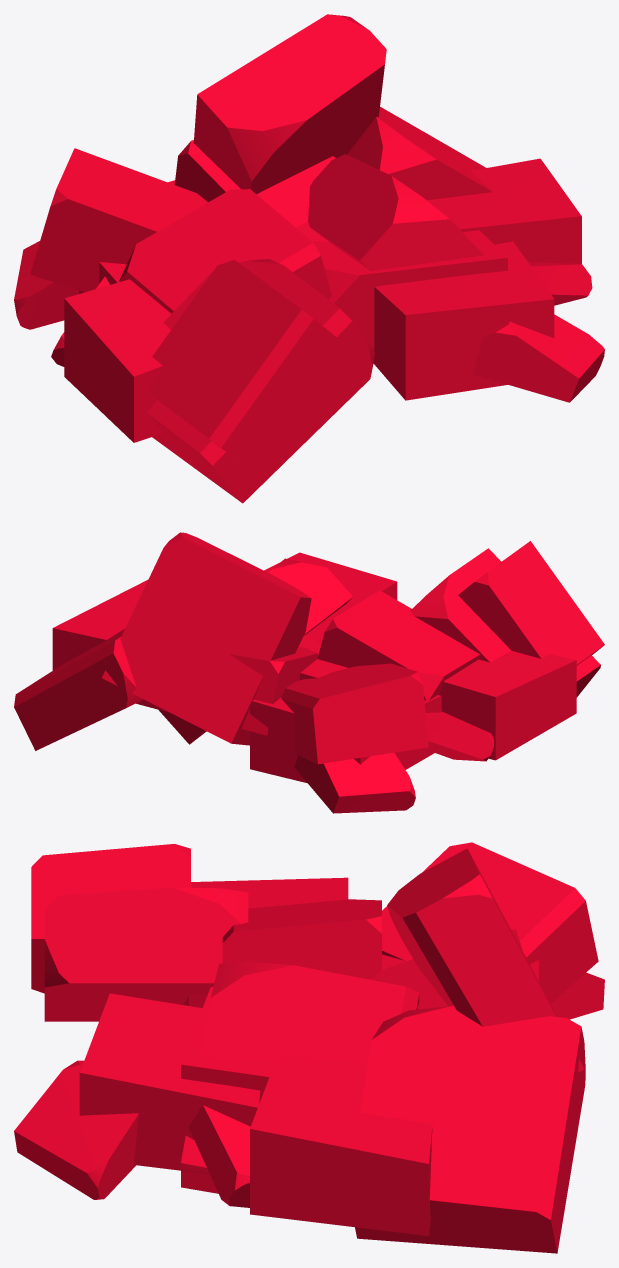
The picture shows the model from 3 angles, top to bottom: view 1: azimuth 30°, elevation 25°; view 2: azimuth 150°, elevation 25°; view 3: azimuth 270°, elevation 25°; orthographic projection. The views are drawn at different scales.
Visible parts, largest first — view 1: Box015; view 2: Box015; view 3: Box015.
Boxes of the visible parts, x1,y1,x2,y2 form: Box015: [14, 14, 604, 503]; Box015: [14, 532, 604, 813]; Box015: [14, 842, 604, 1253].
Bounding box in the file's own units: 1322 × 1175 × 713.
